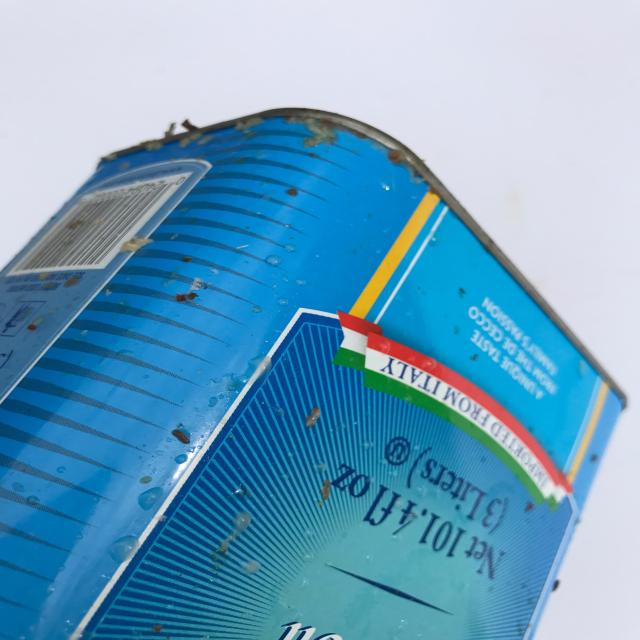metal: (0, 106, 629, 640)
